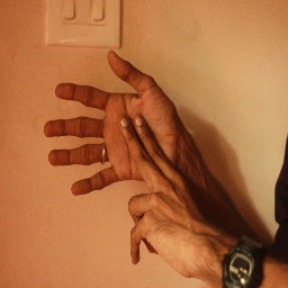N: (30, 48, 209, 257)
